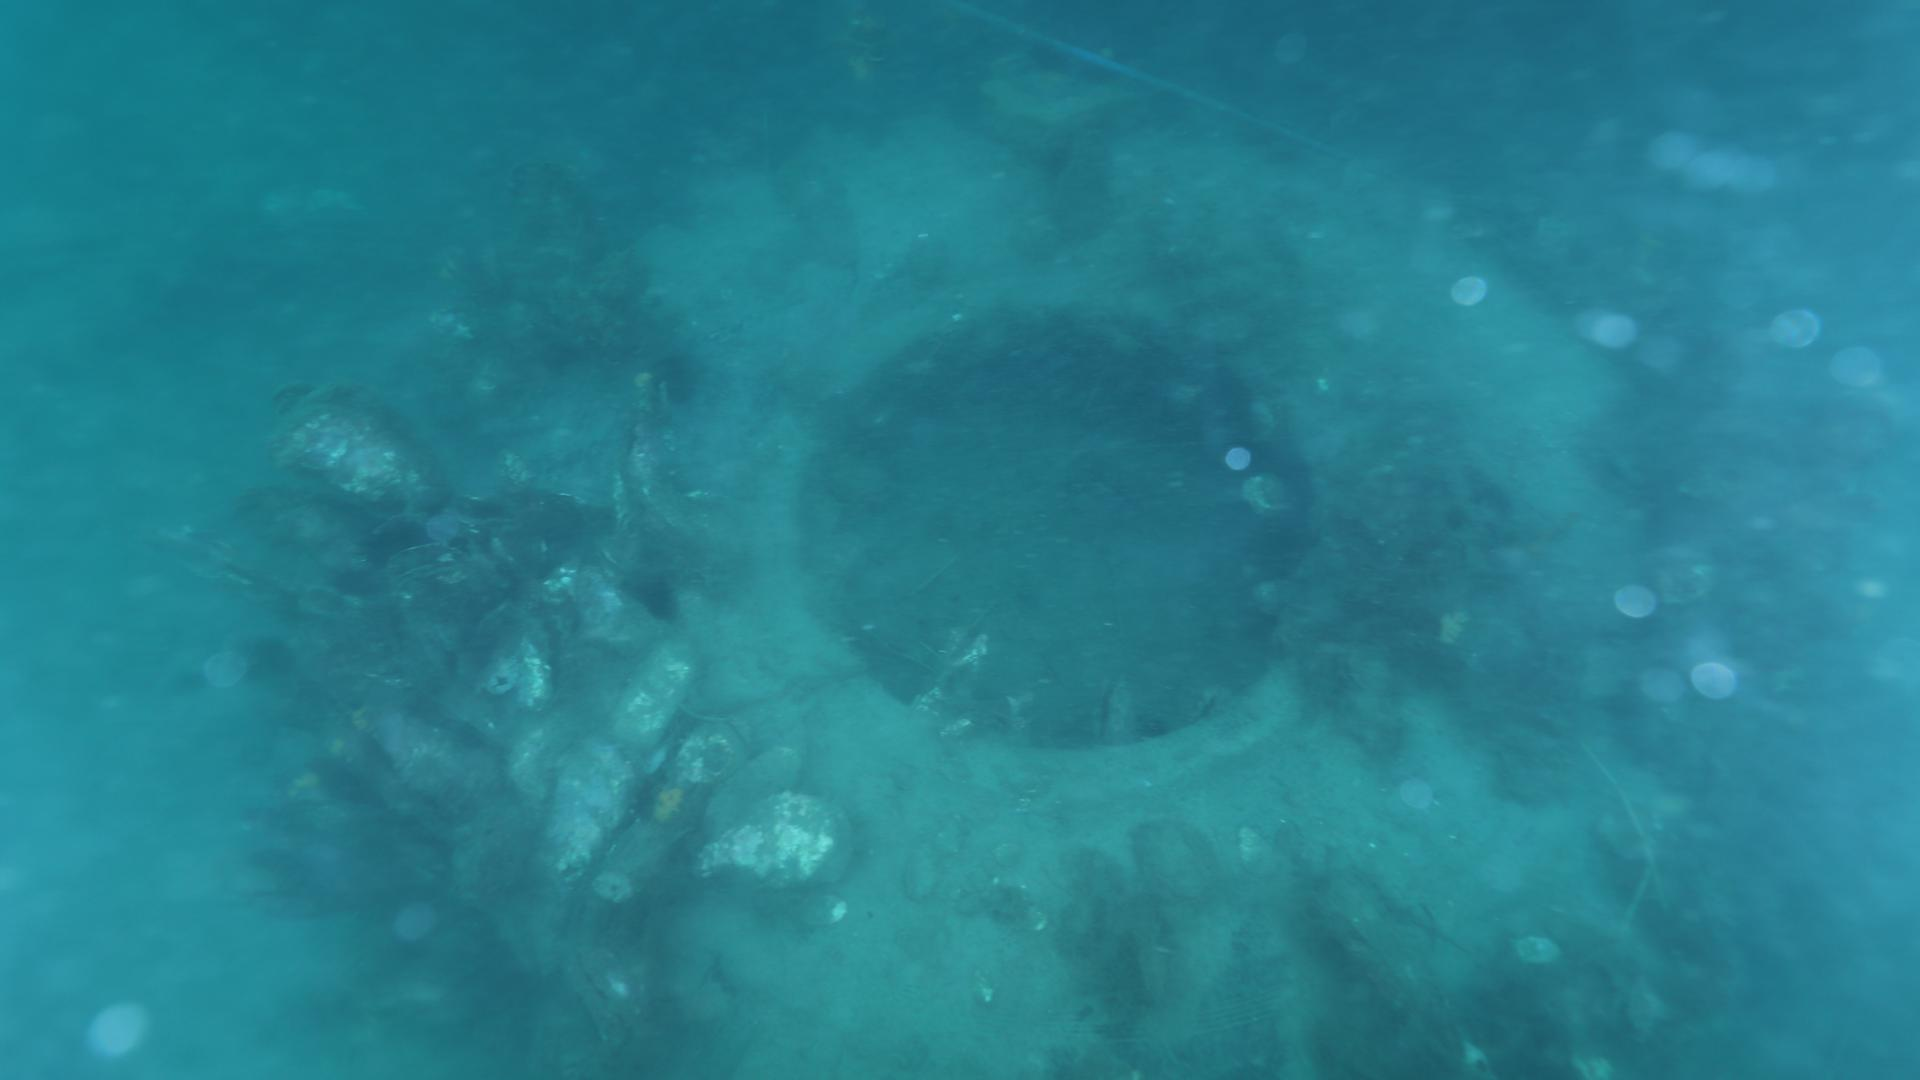tire: (498, 115, 1692, 1080)
